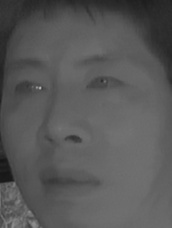eye: (86, 72, 126, 98), (12, 77, 49, 103)
mouth: (34, 156, 105, 201)
